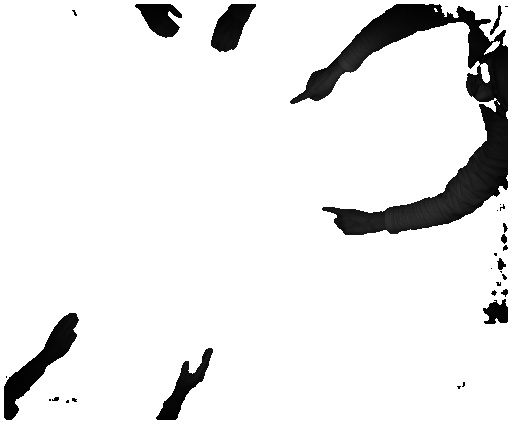hand: (320, 200, 375, 239), (210, 14, 255, 55), (44, 312, 79, 362), (288, 69, 337, 103), (136, 6, 183, 39)
spine: (174, 344, 215, 390)
